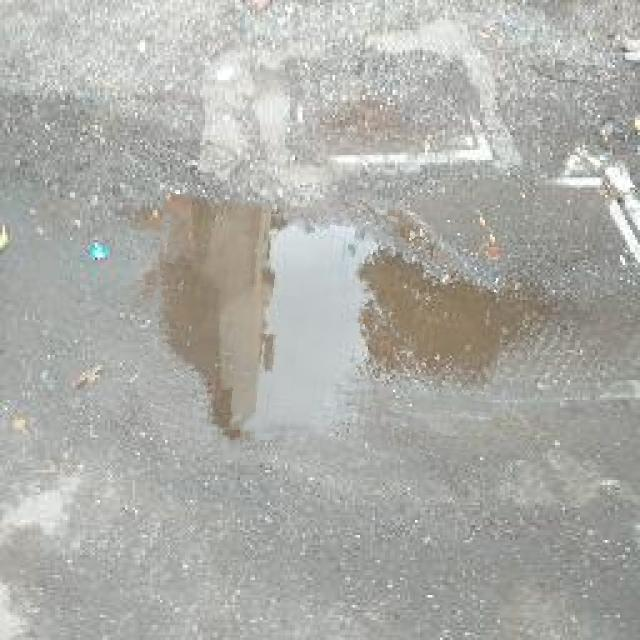puddle: (148, 202, 507, 449)
